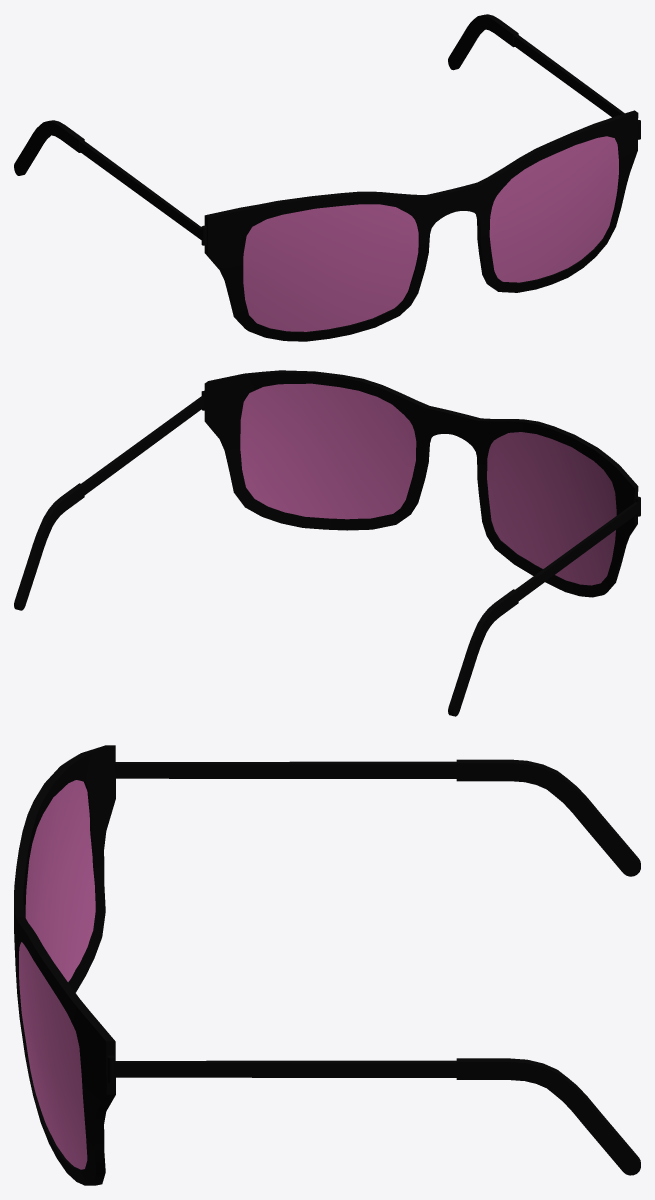
The model's file is glasses-20.glb.
The picture shows the model from 3 angles, top to bottom: view 1: azimuth 30°, elevation 25°; view 2: azimuth 150°, elevation 25°; view 3: azimuth 270°, elevation 25°; orthographic projection. The views are drawn at different scales.
Visible parts, largest first — view 1: glasses20.001; view 2: glasses20.001; view 3: glasses20.001.
Boxes of the visible parts, x1,y1,x2,y2 form: glasses20.001: (14,14,640,341); glasses20.001: (14,370,640,716); glasses20.001: (14,745,640,1185).
Bounding box in the file's own units: 2.17 × 0.7027 × 1.9.
